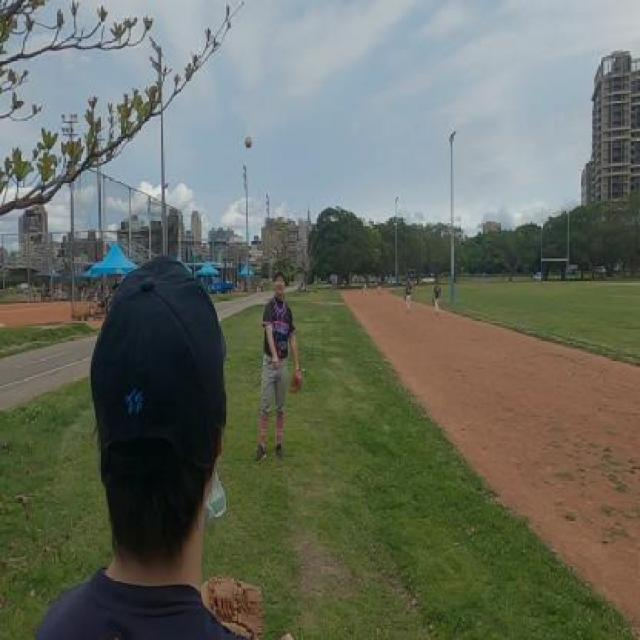baseball: (245, 136, 252, 150)
